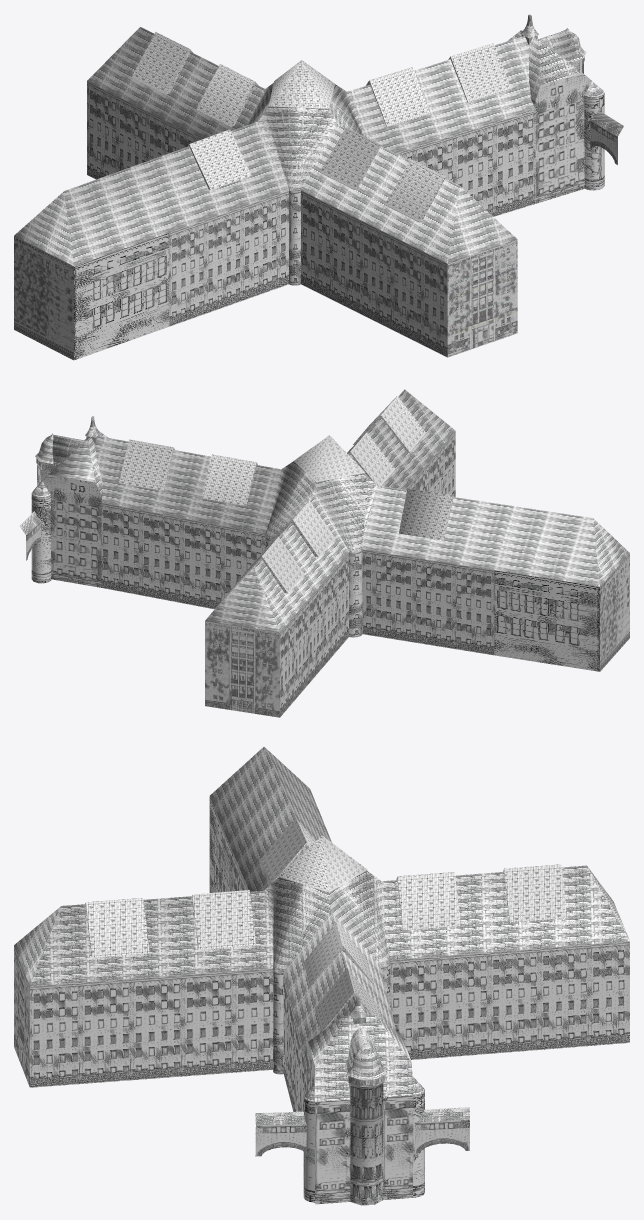
File: 1Huelsse-Bau.gltf
The picture shows the model from 3 angles, top to bottom: view 1: azimuth 30°, elevation 25°; view 2: azimuth 150°, elevation 25°; view 3: azimuth 270°, elevation 25°; orthographic projection. The views are drawn at different scales.
Visible parts, largest first — view 1: Dach.1; view 2: Dach.1; view 3: Dach.1.
Boxes of the visible parts, <box> form: Dach.1: <box>14,14,623,360</box>; Dach.1: <box>19,389,629,717</box>; Dach.1: <box>14,747,629,1205</box>.
Bounding box in the file's own units: 113 × 35.39 × 93.27.
Materials: 15 (15 with a texture image).
